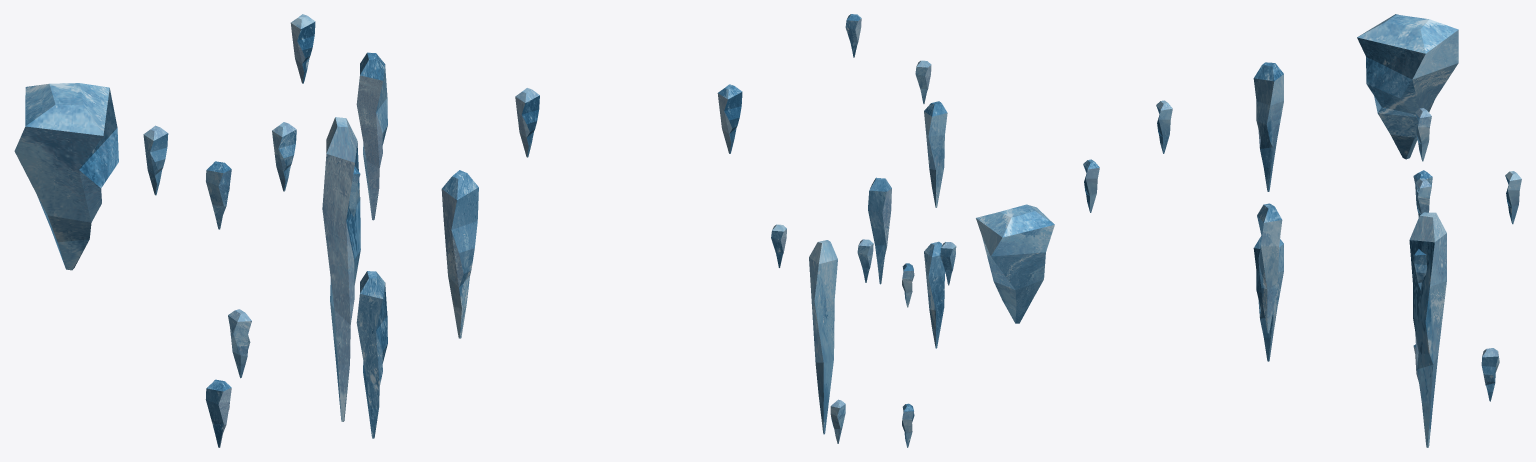
Rendered from M_scene_A-B_ICESTONE.fbx.
3 views of the same model, side by side, from view 1: azimuth 30°, elevation 25°; view 2: azimuth 150°, elevation 25°; view 3: azimuth 270°, elevation 25° (orthographic). The views are drawn at different scales.
Parts seen in each view (by area): view 1: 立方体.030, 立方体.026, 立方体.019, 立方体.020, 立方体.027, 立方体.022, 立方体.029, 立方体.023, 立方体.024, 立方体.018, 立方体.017, 立方体.021 (+1 smaller); view 2: 立方体.030, 立方体.026, 立方体.020, 立方体.019, 立方体.027, 立方体.023, 立方体.018, 立方体.017, 立方体.028, 立方体.021, 立方体.022, 立方体.024 (+1 smaller); view 3: 立方体.030, 立方体.026, 立方体.020, 立方体.019, 立方体.027, 立方体.028, 立方体.017, 立方体.018, 立方体.022, 立方体.021, 立方体.023.
Part boxes in pixels (x1=…): 立方体.030: x1=14, y1=83, x2=118, y2=270; 立方体.026: x1=322, y1=117, x2=360, y2=421; 立方体.019: x1=441, y1=170, x2=478, y2=338; 立方体.020: x1=356, y1=52, x2=387, y2=220; 立方体.027: x1=356, y1=271, x2=387, y2=438; 立方体.022: x1=143, y1=125, x2=168, y2=195; 立方体.029: x1=205, y1=379, x2=231, y2=447; 立方体.023: x1=272, y1=122, x2=296, y2=191; 立方体.024: x1=206, y1=161, x2=231, y2=229; 立方体.018: x1=515, y1=88, x2=539, y2=157; 立方体.017: x1=717, y1=84, x2=742, y2=153; 立方体.021: x1=290, y1=14, x2=315, y2=83; 立方体.030: x1=976, y1=204, x2=1054, y2=323; 立方体.026: x1=809, y1=240, x2=837, y2=434; 立方体.020: x1=924, y1=101, x2=947, y2=207; 立方体.019: x1=868, y1=177, x2=891, y2=284; 立方体.027: x1=924, y1=241, x2=945, y2=348; 立方体.023: x1=857, y1=239, x2=873, y2=282; 立方体.018: x1=915, y1=60, x2=931, y2=103; 立方体.017: x1=845, y1=14, x2=861, y2=57; 立方体.028: x1=830, y1=399, x2=845, y2=443; 立方体.021: x1=771, y1=224, x2=786, y2=267; 立方体.022: x1=940, y1=242, x2=956, y2=285; 立方体.024: x1=902, y1=263, x2=914, y2=307; 立方体.030: x1=1357, y1=14, x2=1458, y2=159; 立方体.026: x1=1409, y1=212, x2=1446, y2=447; 立方体.020: x1=1253, y1=62, x2=1283, y2=191; 立方体.019: x1=1257, y1=203, x2=1282, y2=333; 立方体.027: x1=1253, y1=236, x2=1283, y2=361; 立方体.028: x1=1481, y1=348, x2=1499, y2=401; 立方体.017: x1=1083, y1=159, x2=1099, y2=212; 立方体.018: x1=1156, y1=100, x2=1172, y2=153; 立方体.022: x1=1415, y1=108, x2=1431, y2=161; 立方体.021: x1=1505, y1=171, x2=1521, y2=224; 立方体.023: x1=1415, y1=178, x2=1431, y2=217.
Bounding box in the file's own units: 2502 × 2111 × 2356.
